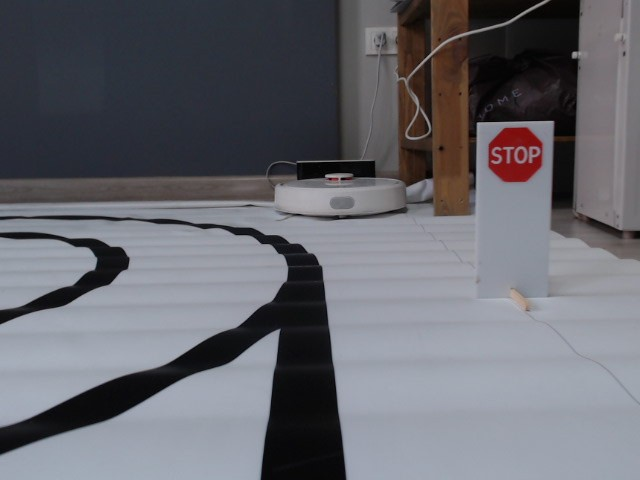Stop: (485, 127, 544, 185)
